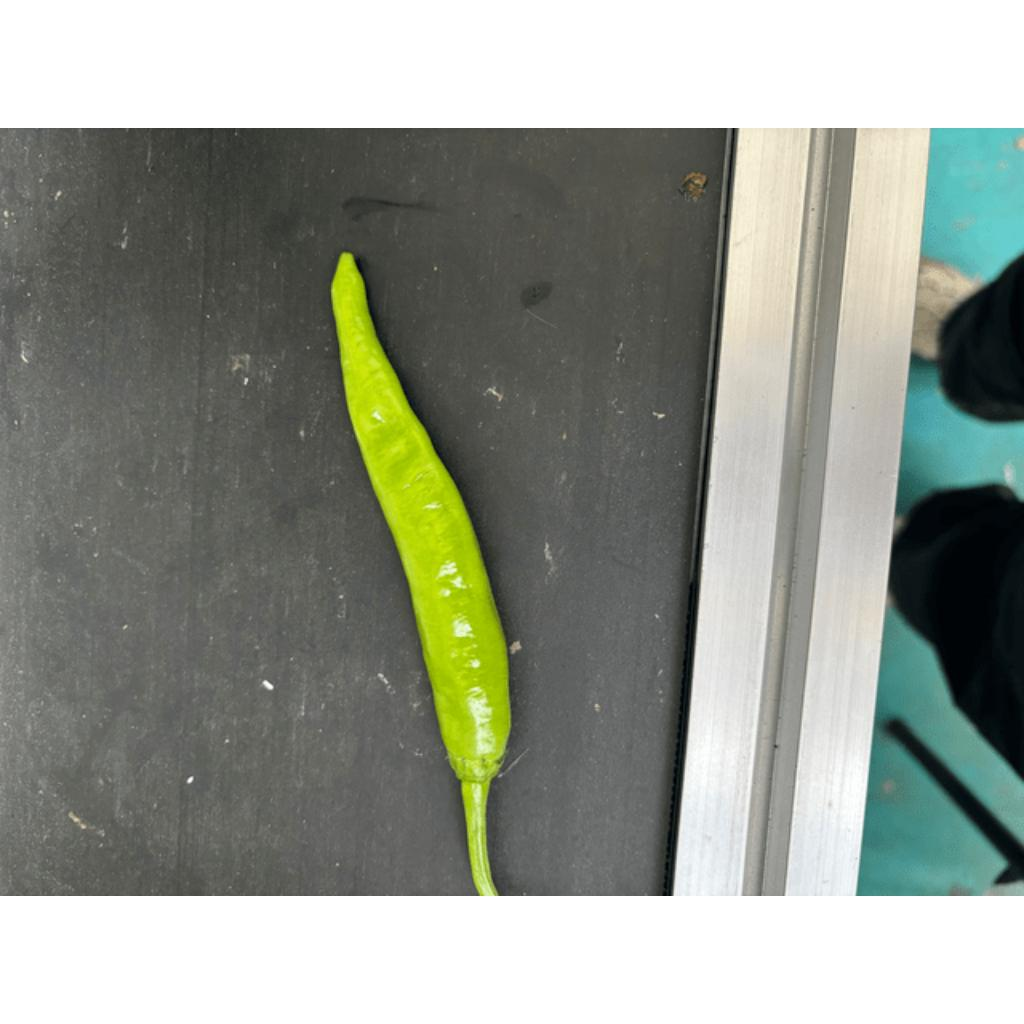chili: (327, 249, 515, 786)
